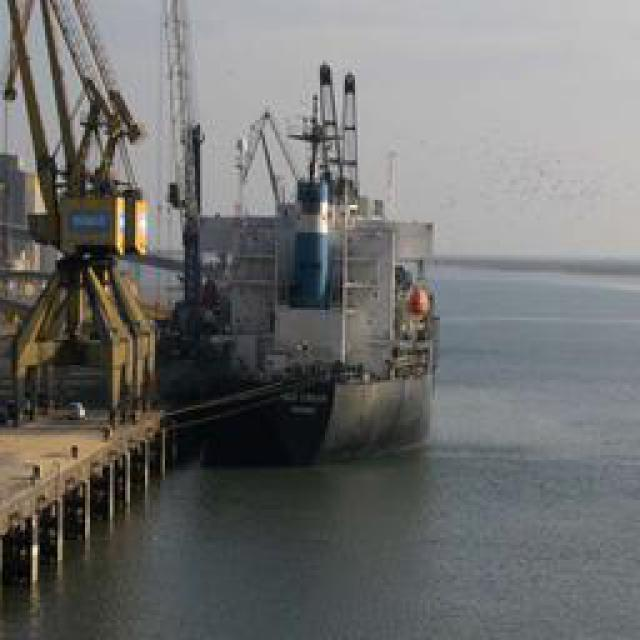Ship: (149, 40, 442, 465)
